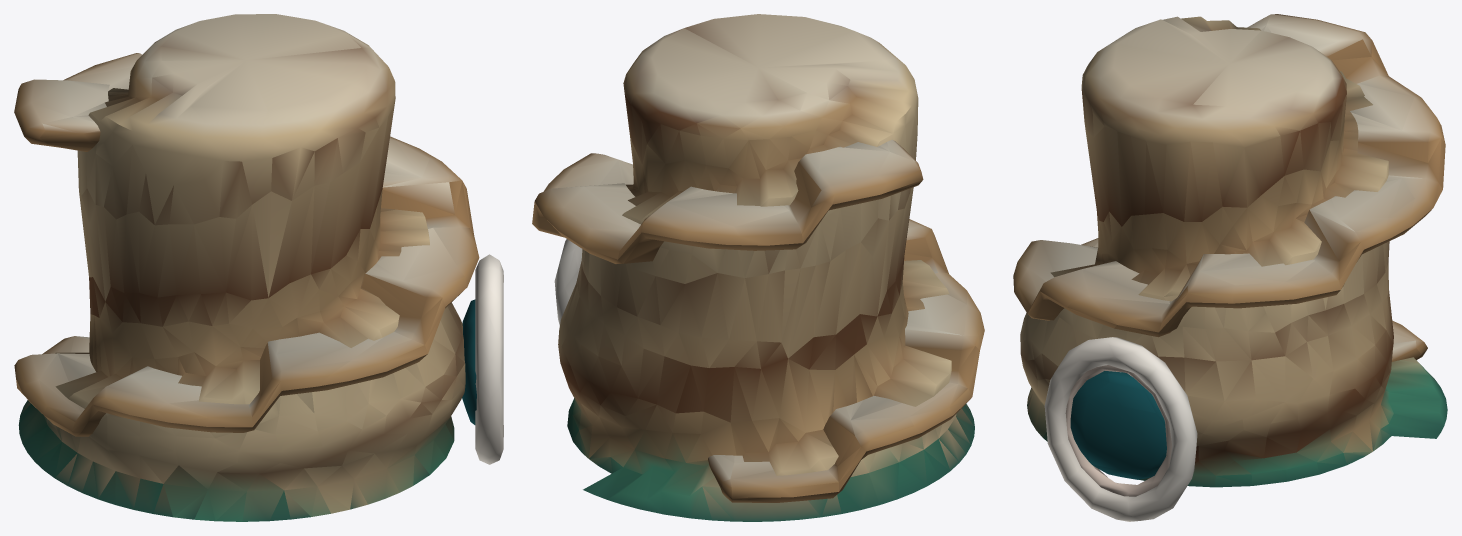
Rendered from grotto_snail_shell_lod2.glb.
The picture shows the model from 3 angles, left to right: view 1: azimuth 30°, elevation 25°; view 2: azimuth 150°, elevation 25°; view 3: azimuth 270°, elevation 25°; orthographic projection. The views are drawn at different scales.
Parts seen in each view (by area): view 1: grotto_snail_shell.001; view 2: grotto_snail_shell.001; view 3: grotto_snail_shell.001.
Boxes of the visible parts, x1=… form: grotto_snail_shell.001: x1=14, y1=14, x2=503, y2=521; grotto_snail_shell.001: x1=532, y1=14, x2=984, y2=521; grotto_snail_shell.001: x1=1013, y1=14, x2=1447, y2=521.
Size of the model in its own units: 17.65 by 15.69 by 16.48.
